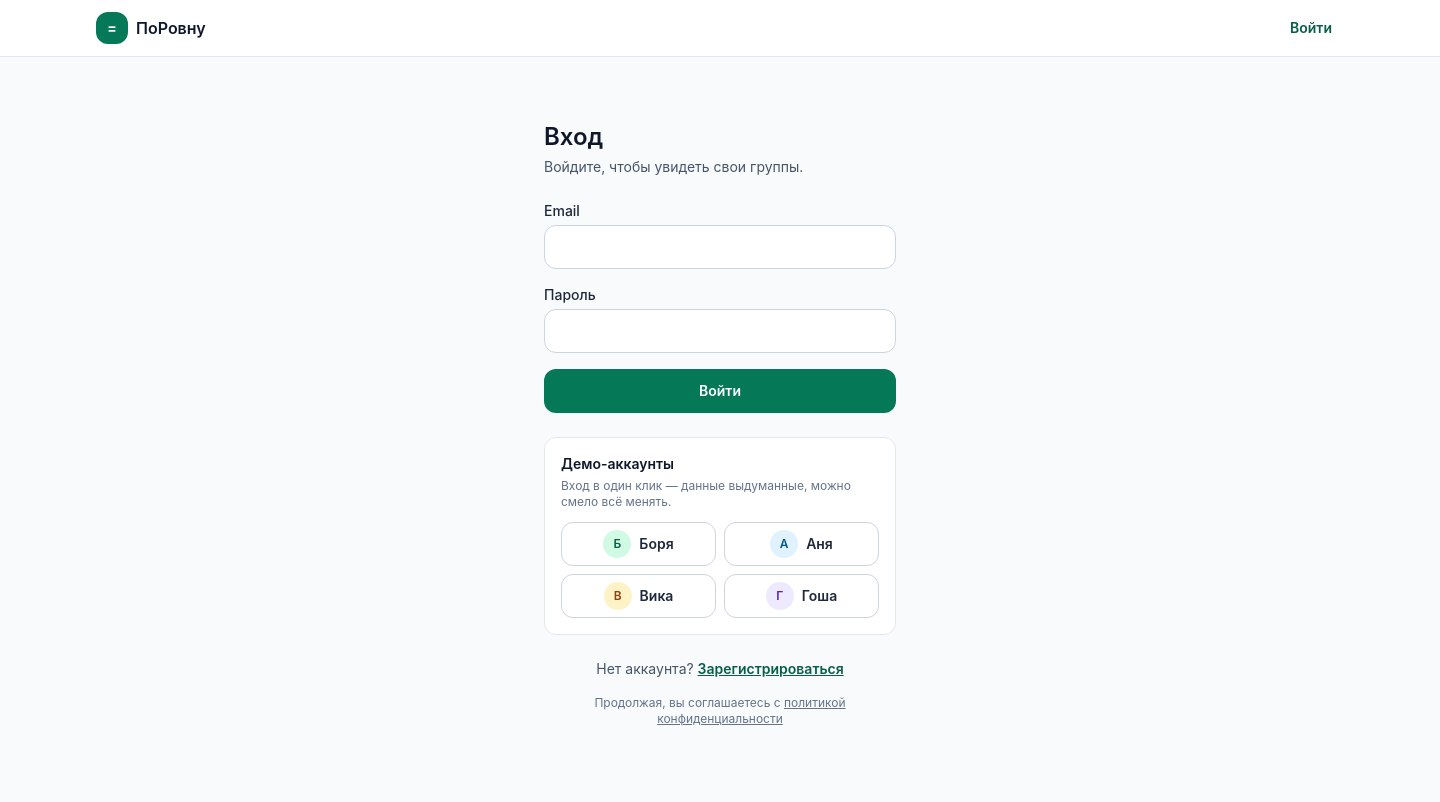
Test case: политика конфиденциальности (ДЗ6, Google OAuth) › с формы входа можно перейти к политике
Click the link "политикой конфиденциальности" at (815, 702), box x1=657 y1=695 x2=846 y2=726
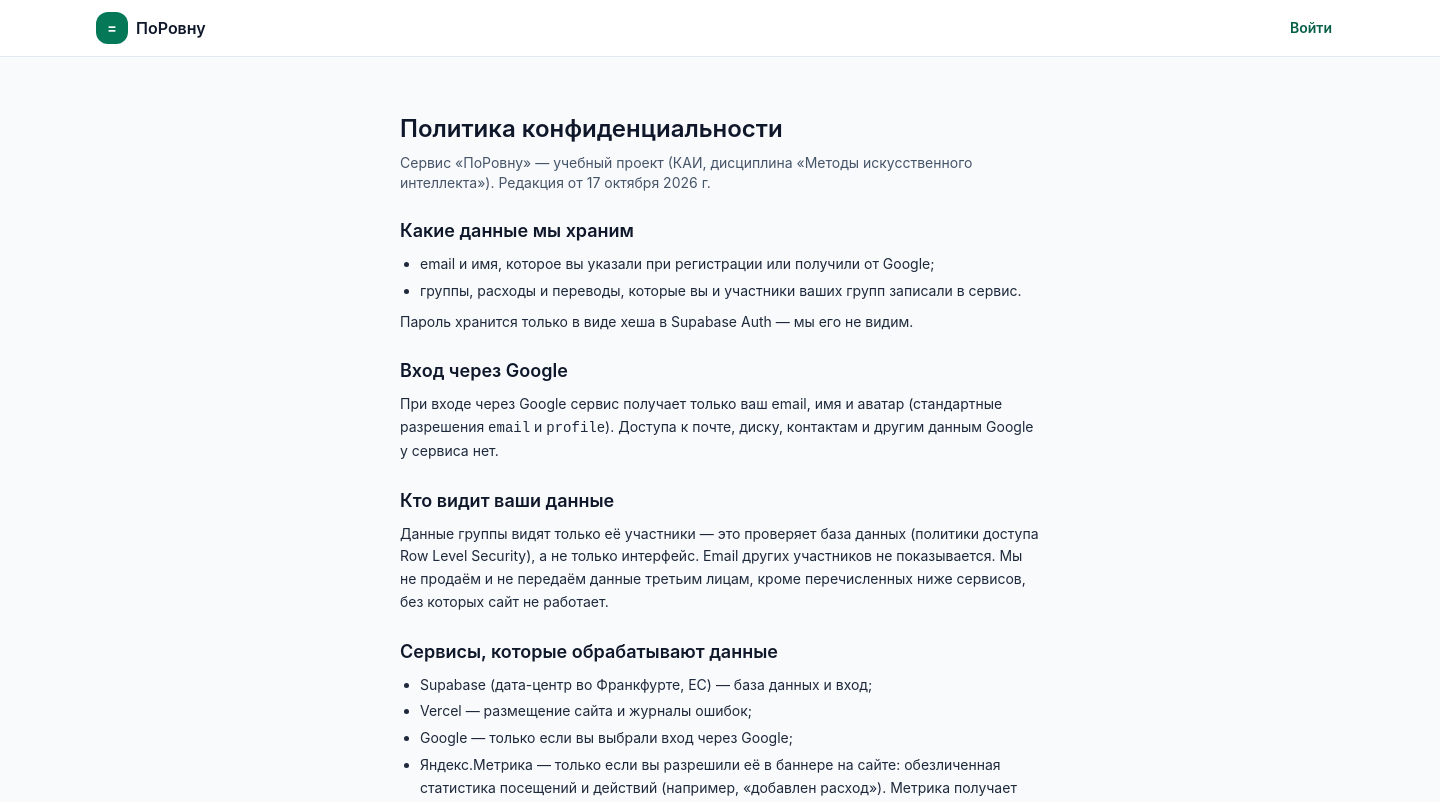
Now the heading "Политика конфиденциальности" is shown, box x1=400 y1=114 x2=783 y2=143
